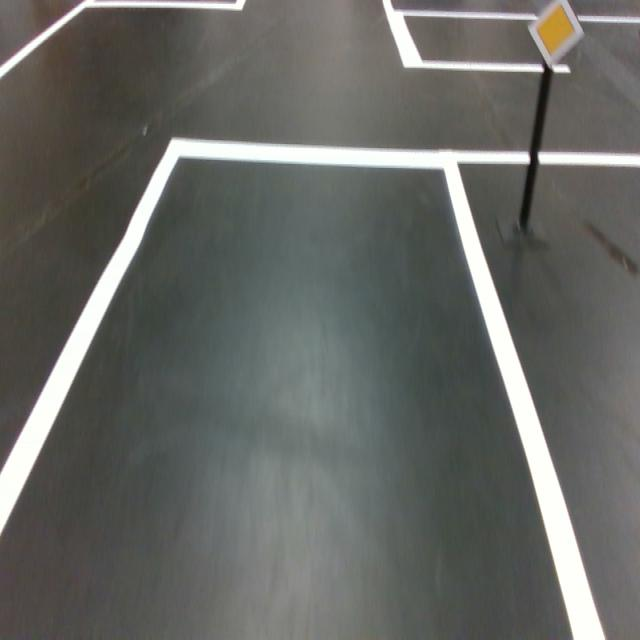priority-sign: (526, 0, 585, 70)
